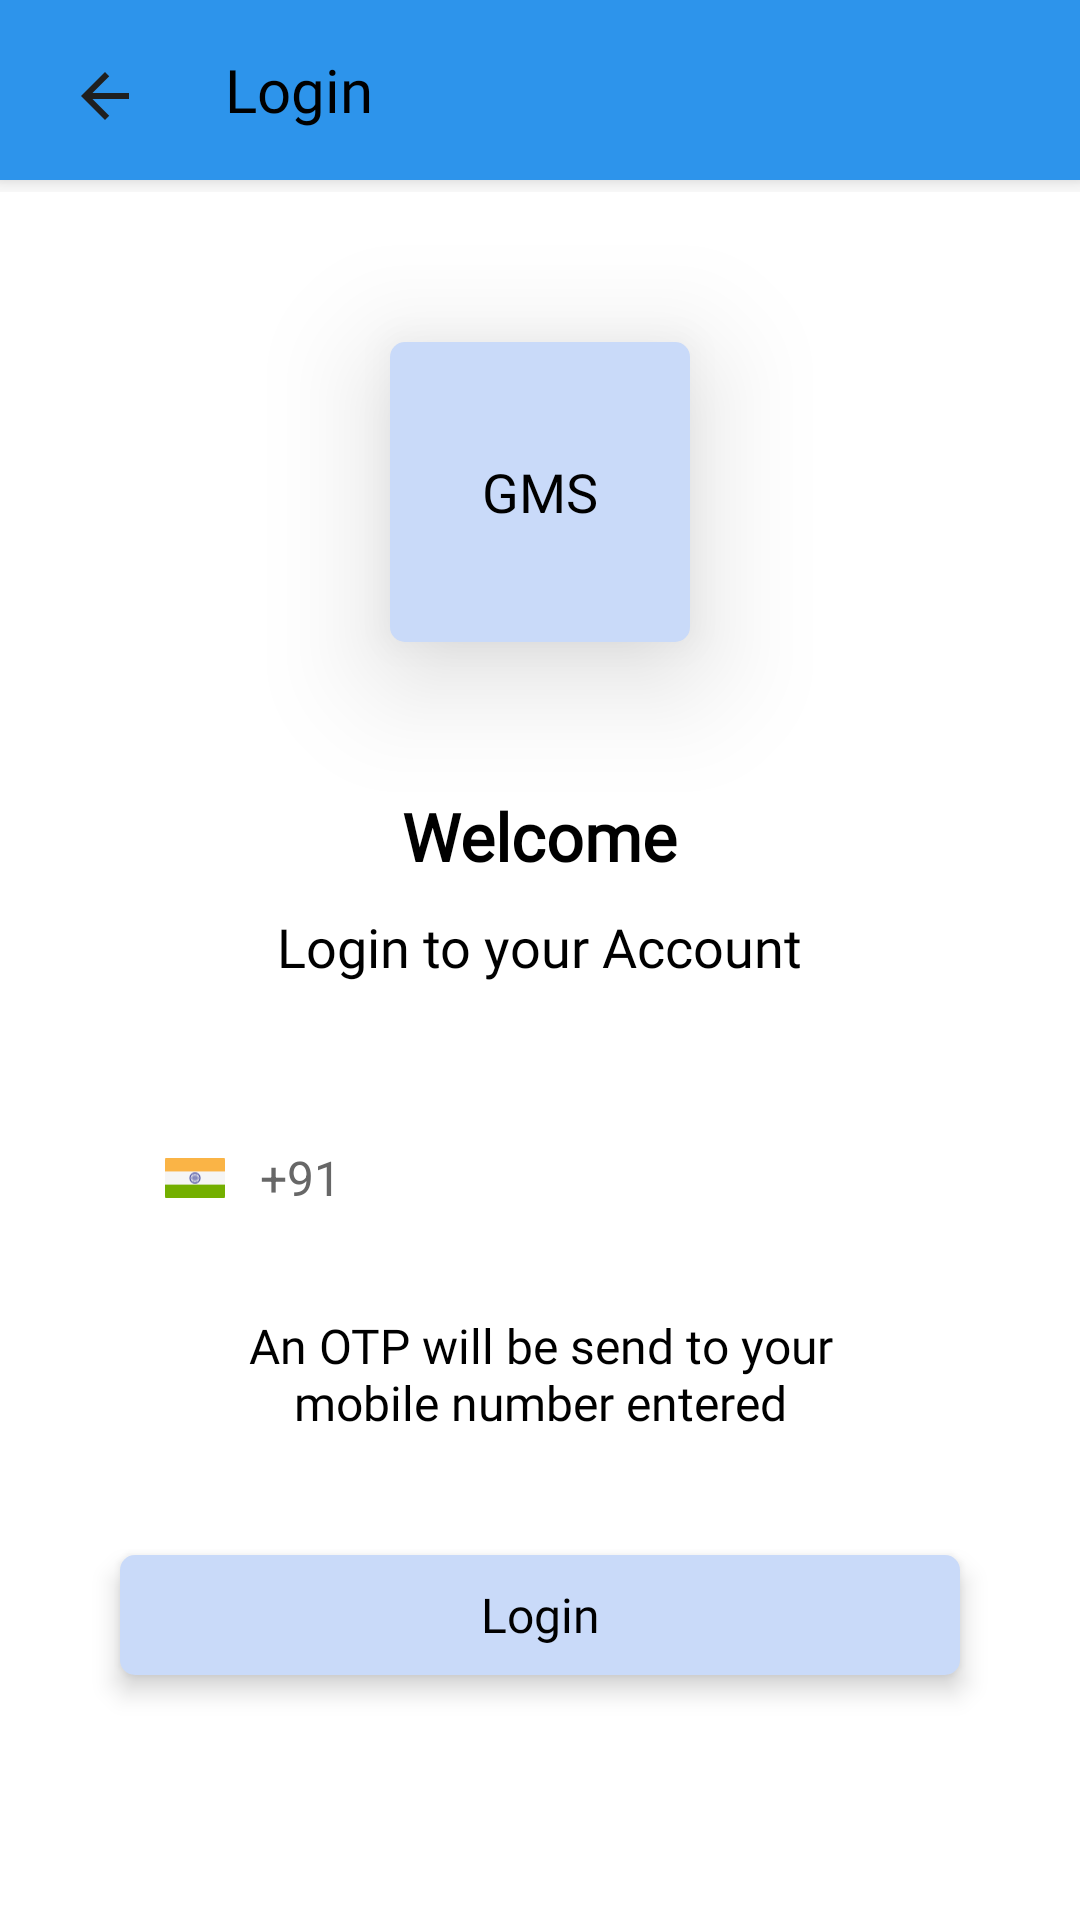

Icon bounding boxes for this 1080px×1920px phone screenshot, format (x1, y1, x2, y2):
india: (165, 1158, 225, 1198)
